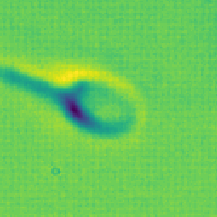normal: (1, 51, 65, 114)
